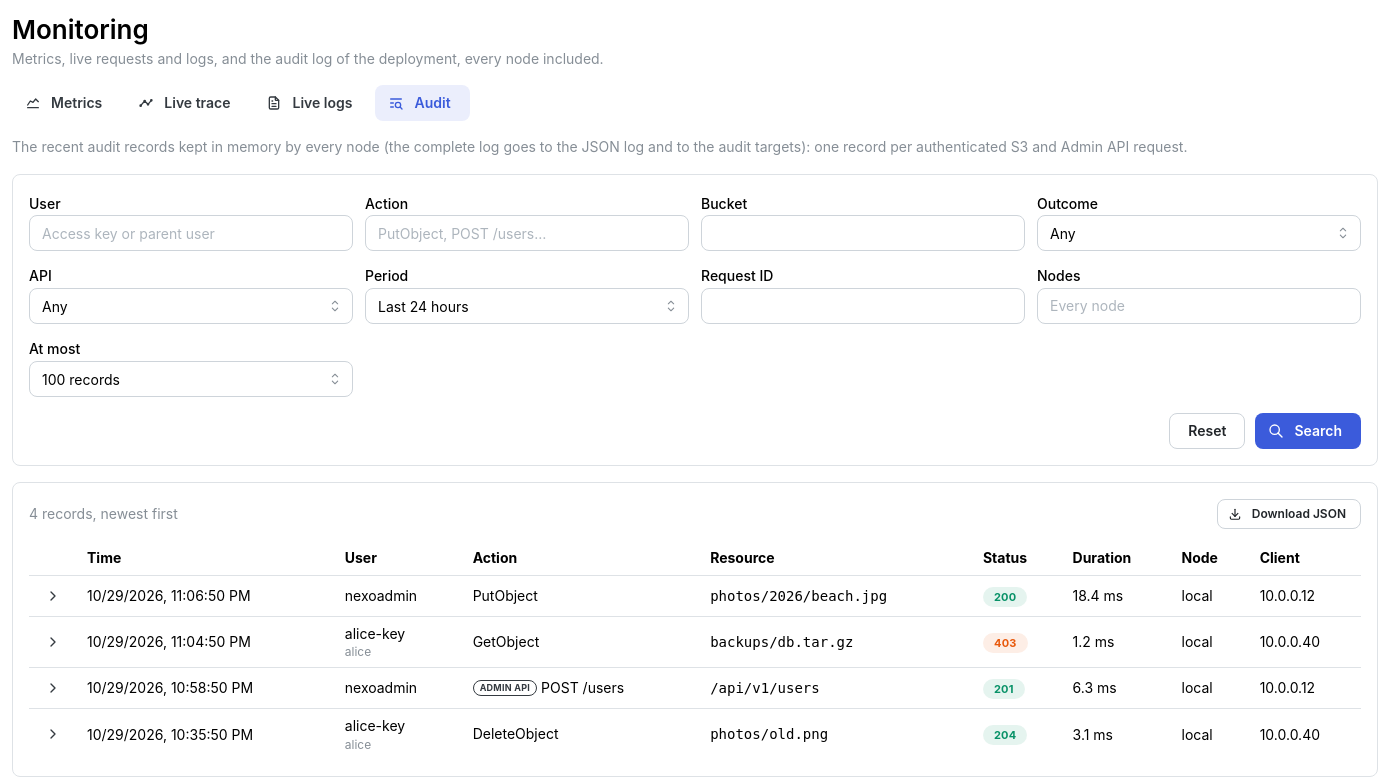
audit (D-MON-03) › shows an empty search
Expected: the table named "Audit records" is shown, [29, 541, 1361, 760]
Type "nothing-here" into the field labelled "Bucket".
click(863, 234); type("nothing-here")  # box [701, 216, 1025, 252]
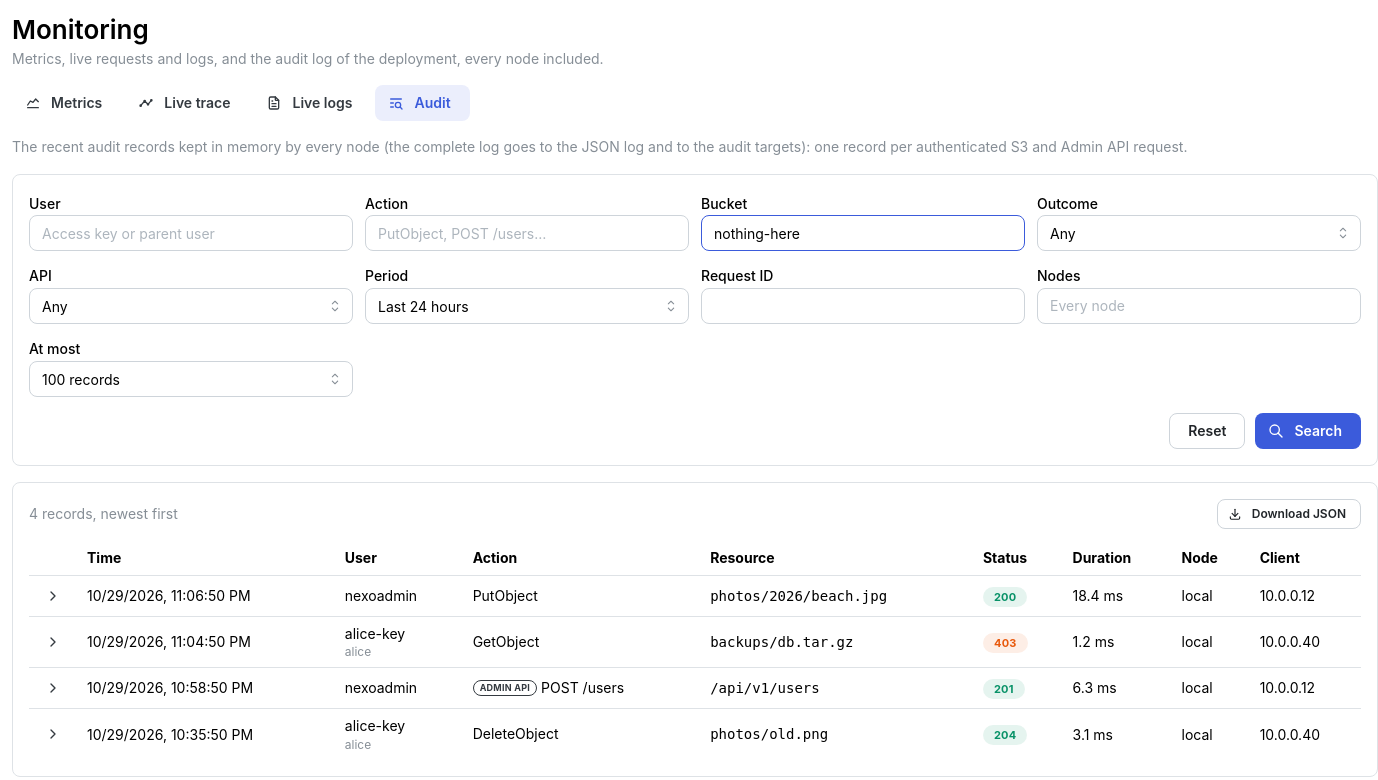
Click the button "Search".
click(1308, 431)  # box [1256, 413, 1361, 449]
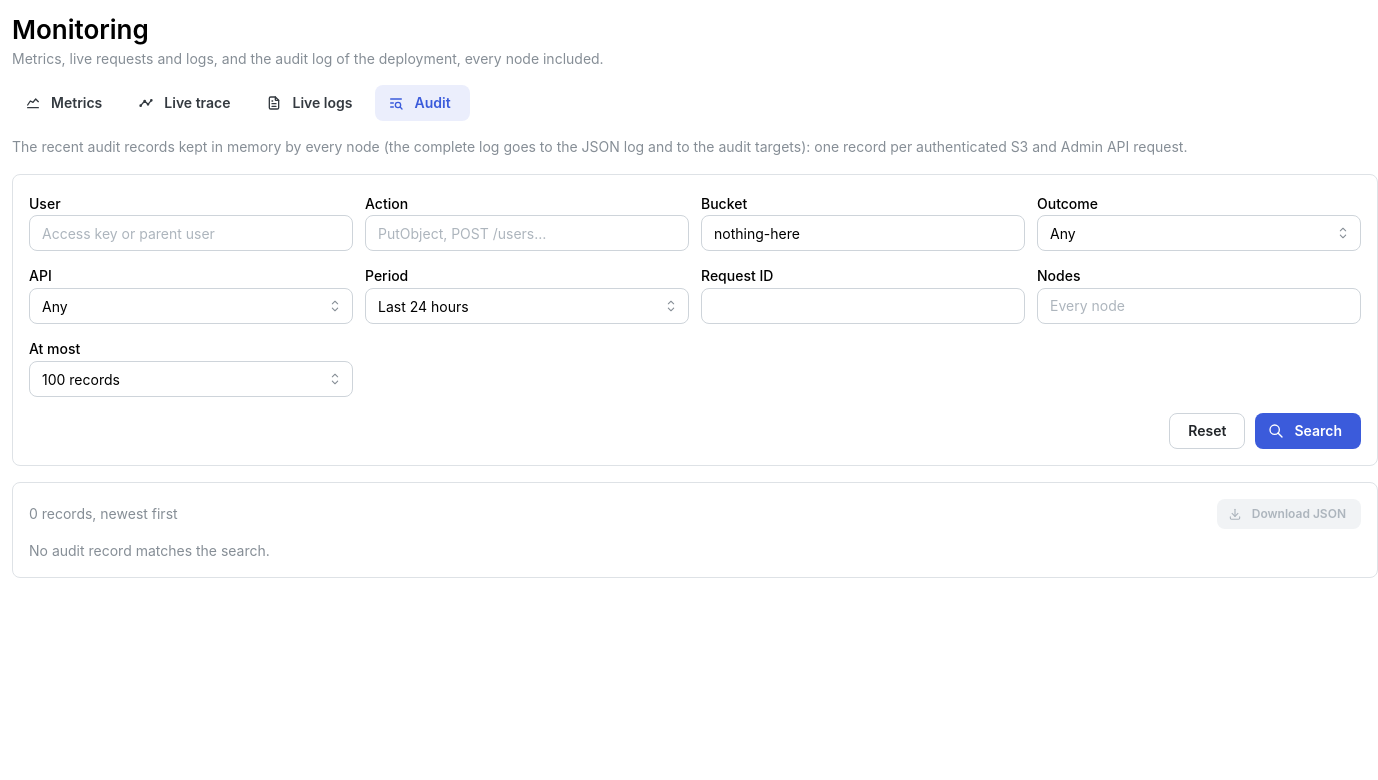
Result: the text "No audit record matches the search." is shown at [29, 542, 270, 559]
